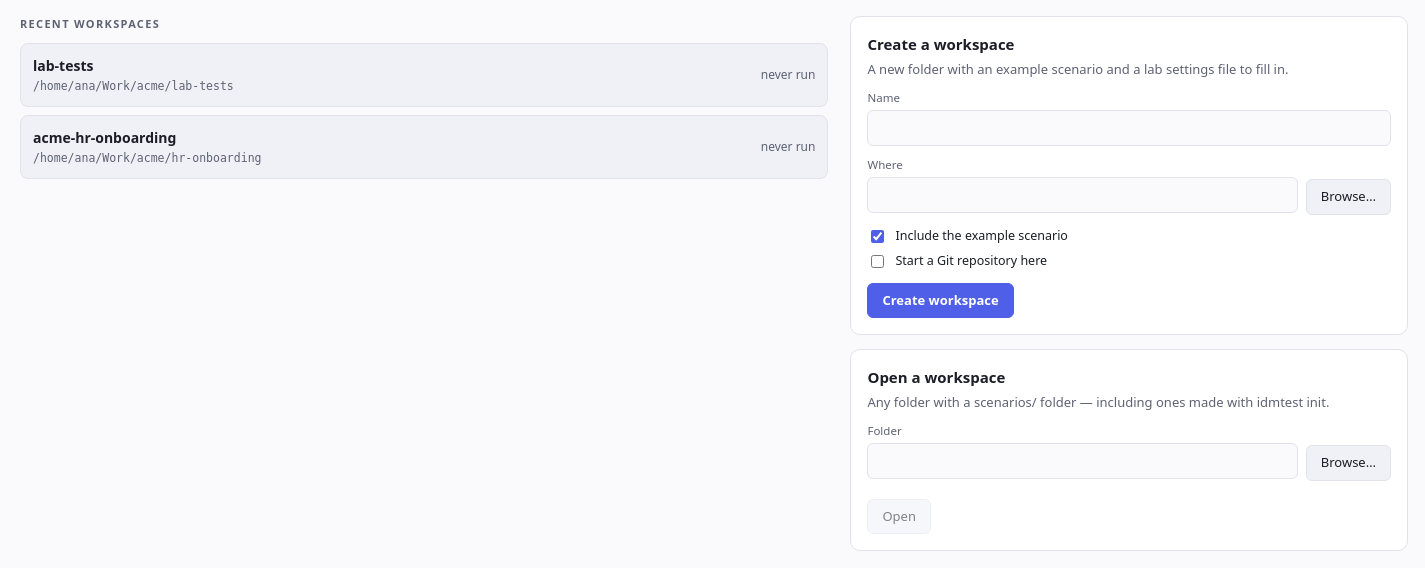
the run-going notice on the start page › cancel closes it
The width and height of the screenshot is (1425, 568).
Click the button with aria-label "Open acme-hr-onboarding" at point(105, 137), box [20,115,828,179]
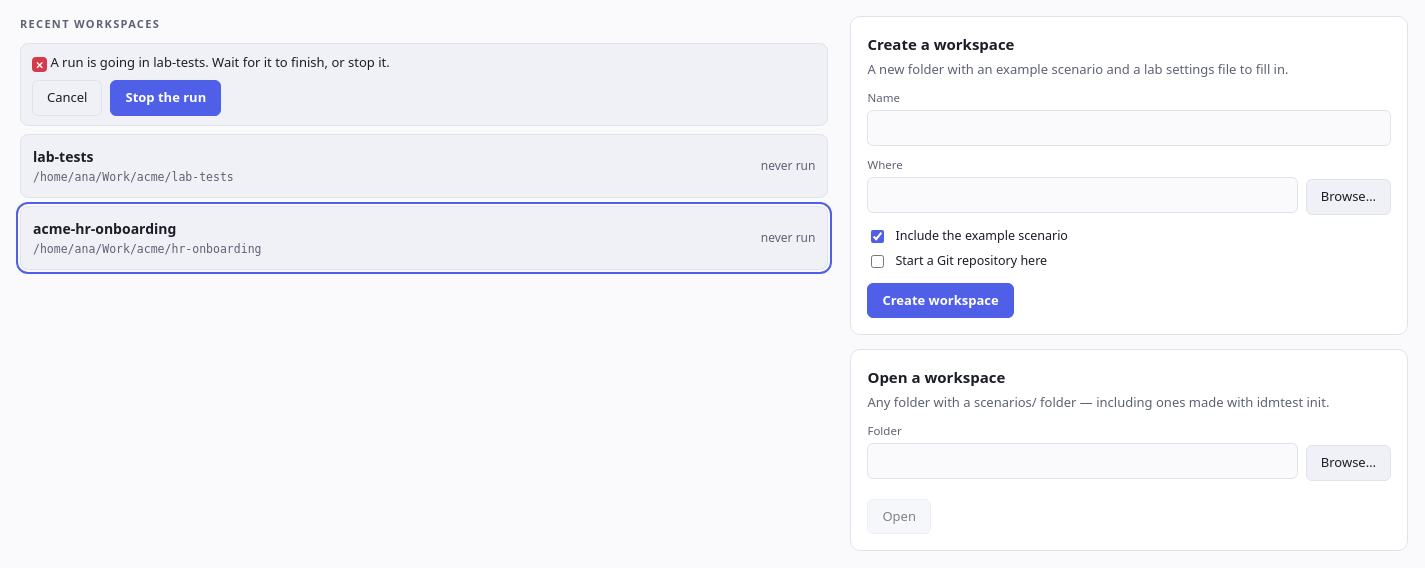
Click the button "Cancel" at point(67, 98), box [32,80,102,116]
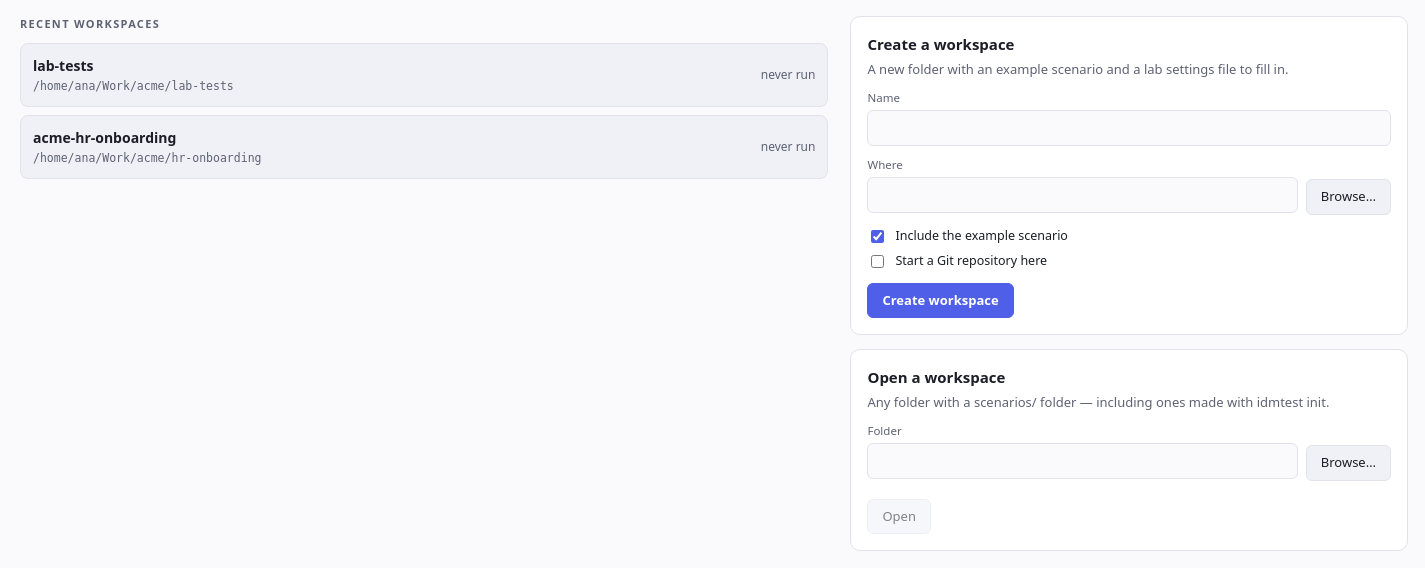
expect the message is gone: met
